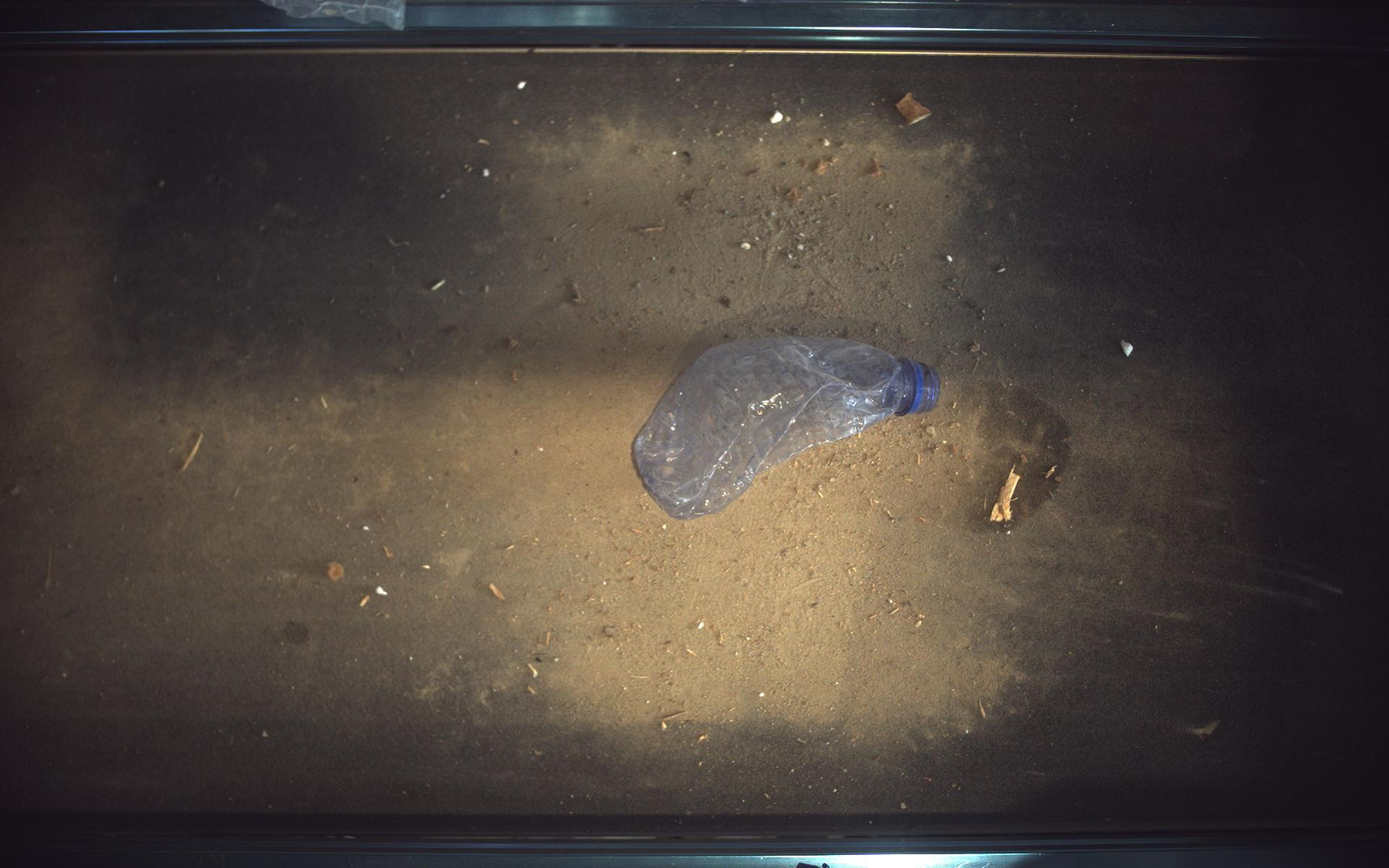general_w: (634, 336, 942, 519)
